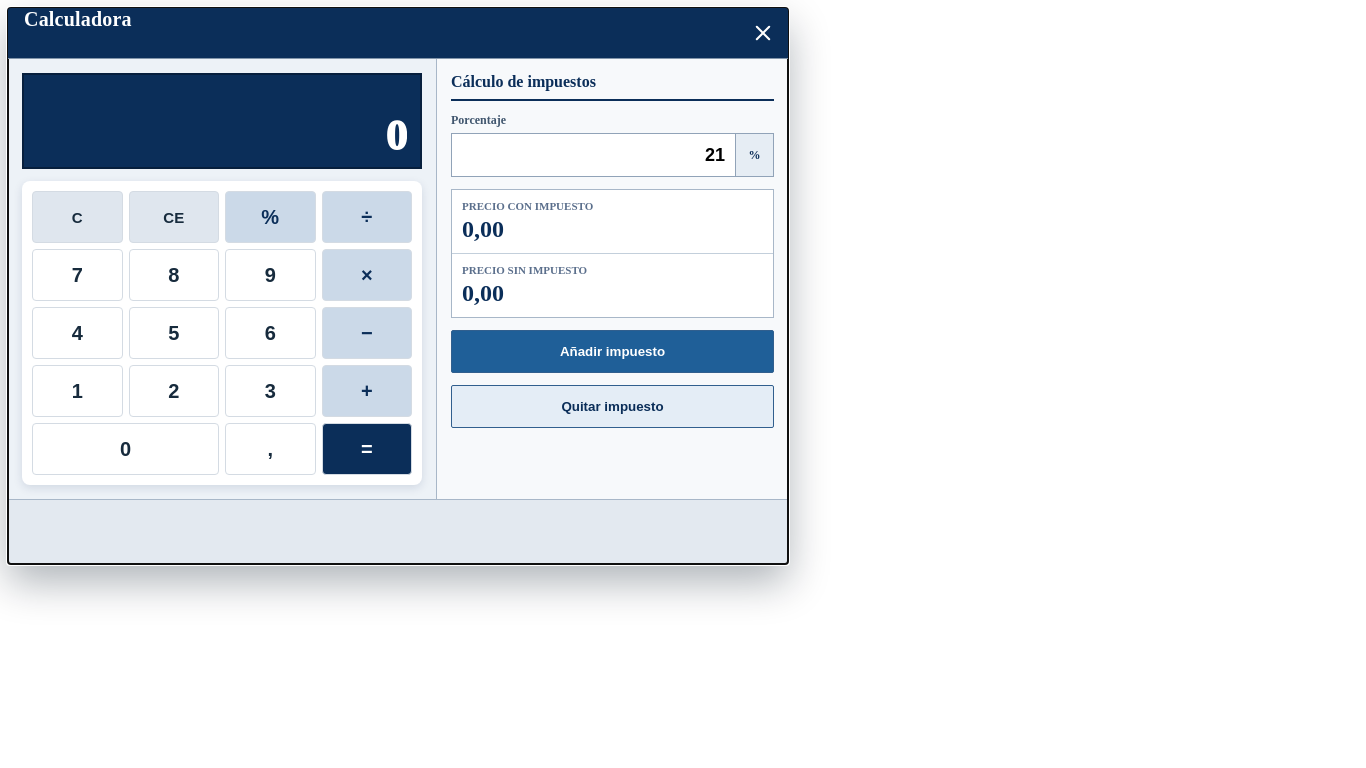
Test: SaleCalculatorDialog interaction › keeps the keypad available without a toggle in TOUCH mode
The image size is (1366, 768).
Click the button "7".
click(77, 275)  # box top-left (32, 249), bottom-right (122, 301)
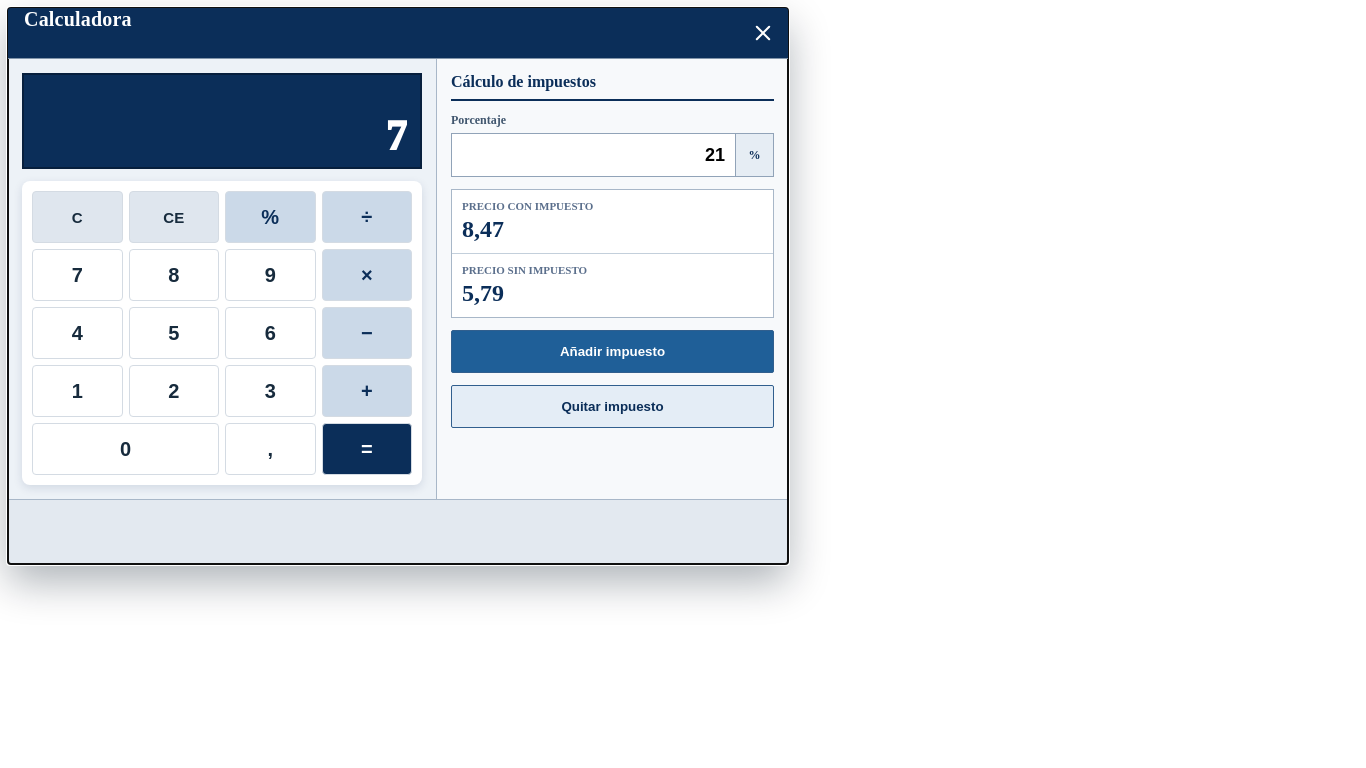
Click the button "+".
click(367, 391)  # box top-left (322, 365), bottom-right (412, 417)
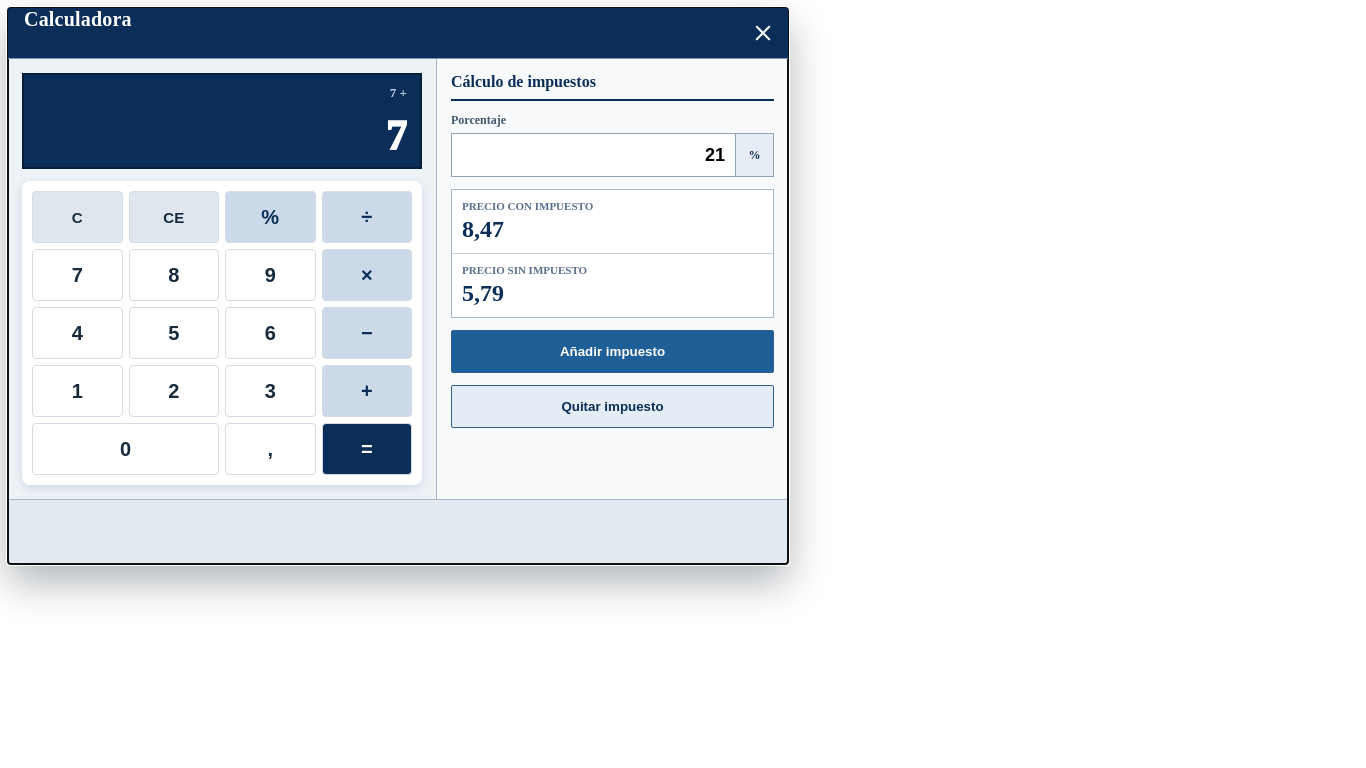
Click the button "2".
click(174, 391)  # box top-left (128, 365), bottom-right (219, 417)
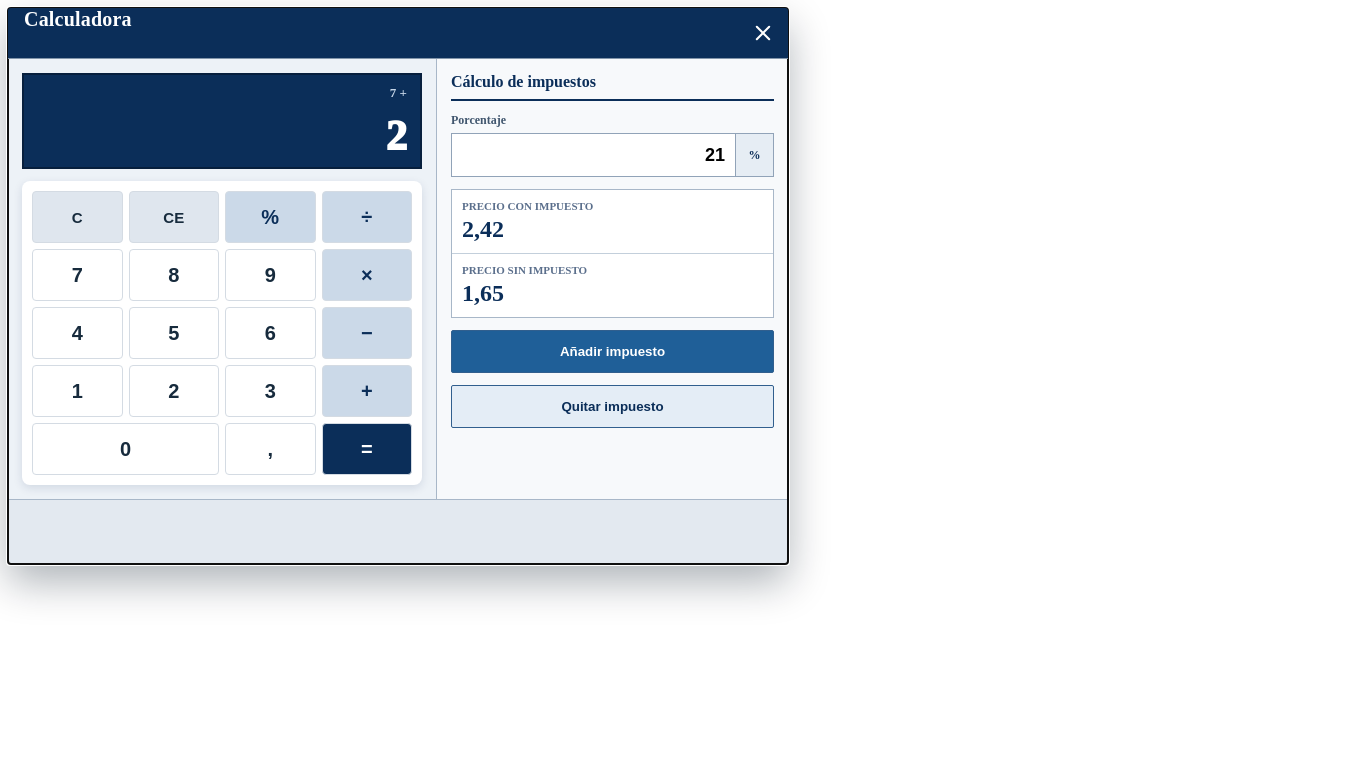
Click the button named "Resultado".
click(367, 449)  # box top-left (322, 423), bottom-right (412, 475)
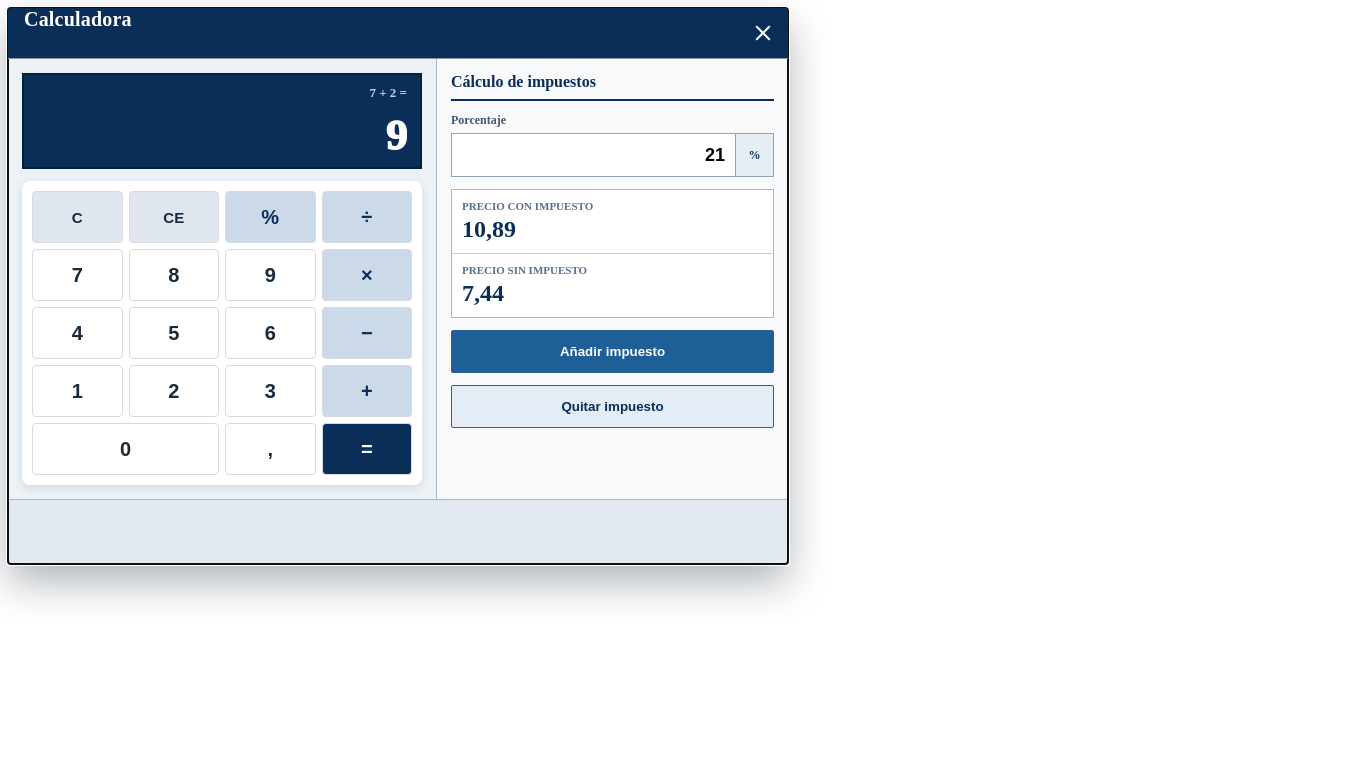
Result: the text "9" is shown at top-left (386, 114), bottom-right (407, 157)
